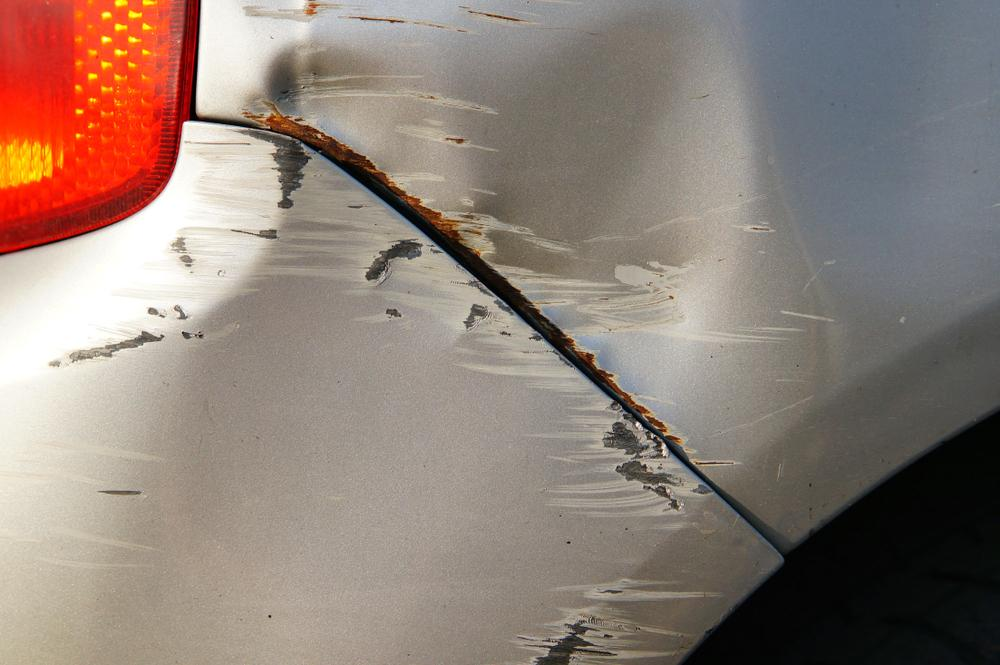dent: (176, 151, 665, 624), (274, 1, 755, 425)
scratch: (0, 126, 316, 570), (501, 571, 735, 665), (239, 0, 548, 38)
